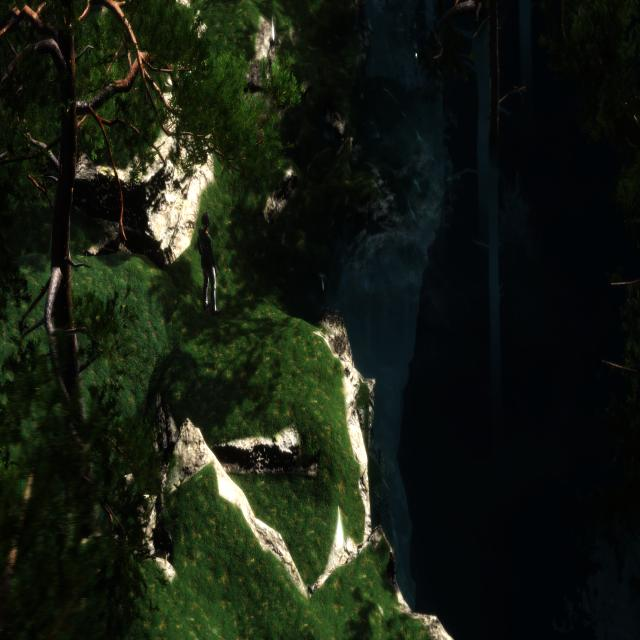Human: (196, 212, 225, 324)
